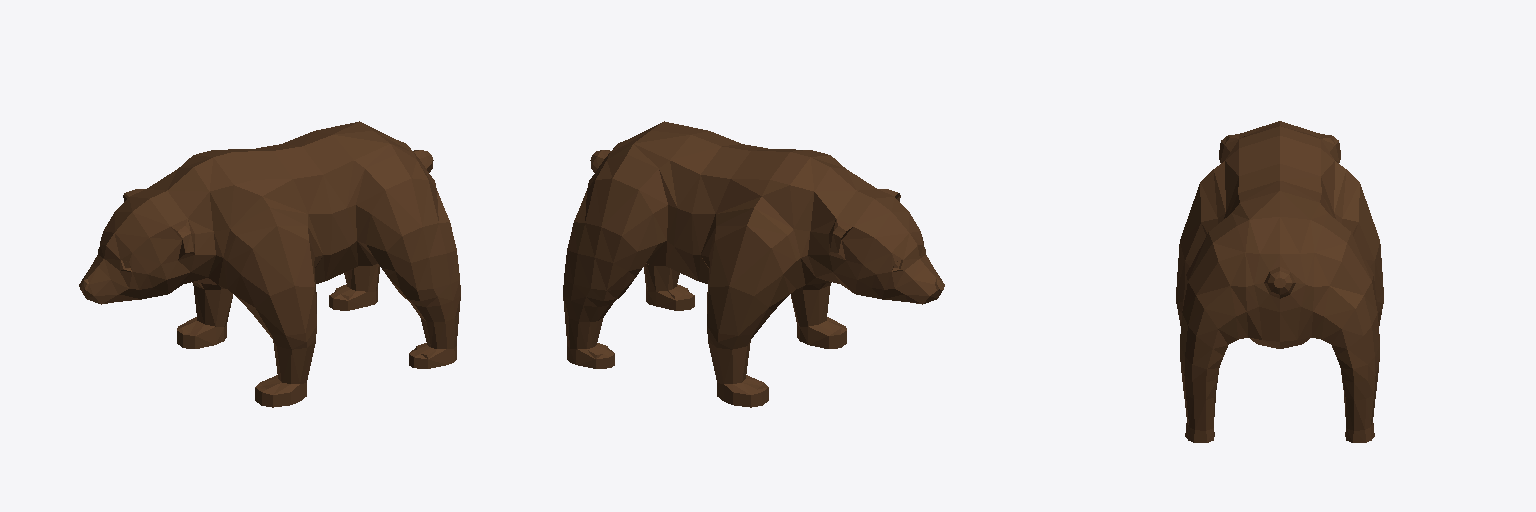
The picture shows the model from 3 angles: view 1: azimuth 30°, elevation 25°; view 2: azimuth 150°, elevation 25°; view 3: azimuth 270°, elevation 25°; orthographic projection.
Visible parts, largest first — view 1: bear_Mesh.005; view 2: bear_Mesh.005; view 3: bear_Mesh.005.
Boxes of the visible parts, x1,y1,x2,y2 form: bear_Mesh.005: [79, 121, 460, 407]; bear_Mesh.005: [563, 121, 944, 407]; bear_Mesh.005: [1176, 121, 1383, 442].
Bounding box in the file's own units: 2.1 × 1.25 × 1.08.
1 materials, 1 textured.